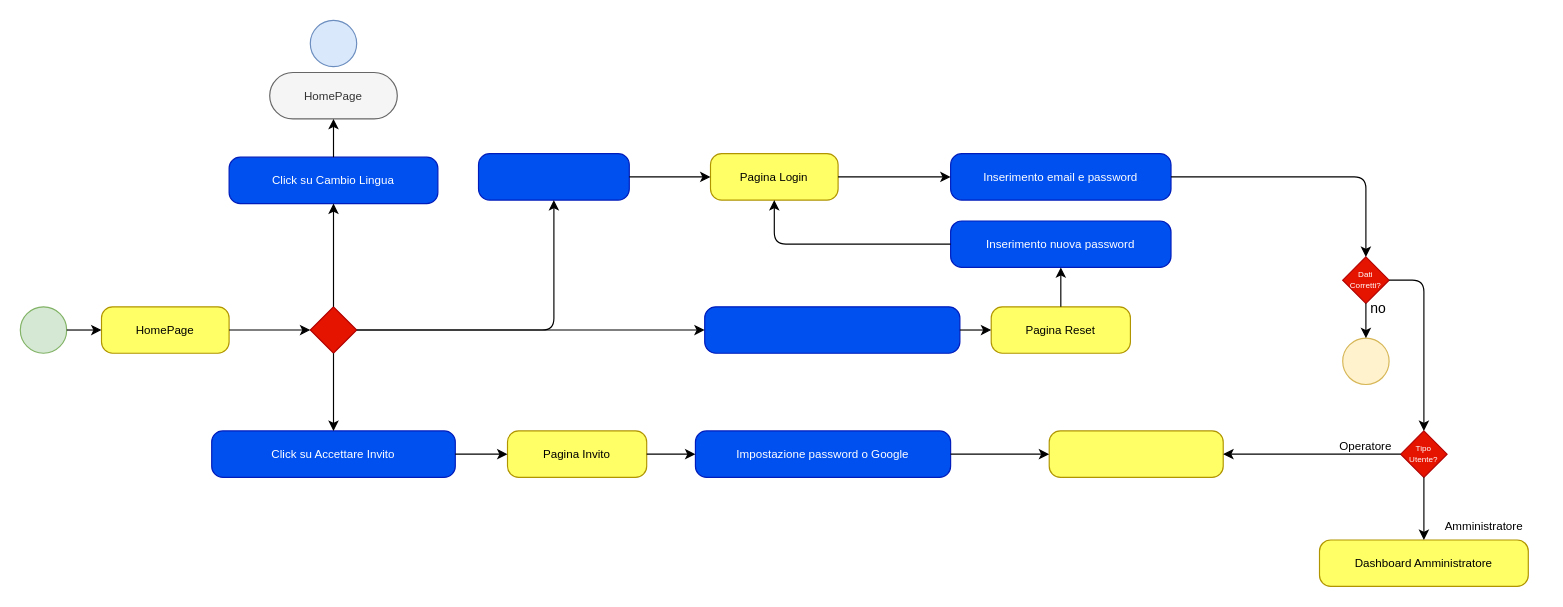
Image size: 1563x607. Some labels were removed from this diagram. Here are the shapes that lost their labels. From the top down, the centre of each, then its label:
point (333, 43): Arrivo
point (553, 176): Click su Login
point (43, 329): Inizio
point (333, 329): Bivio
point (832, 329): Click su Password Dimenticata
point (1365, 361): Pausa
point (1135, 453): Dashboard Operatore
